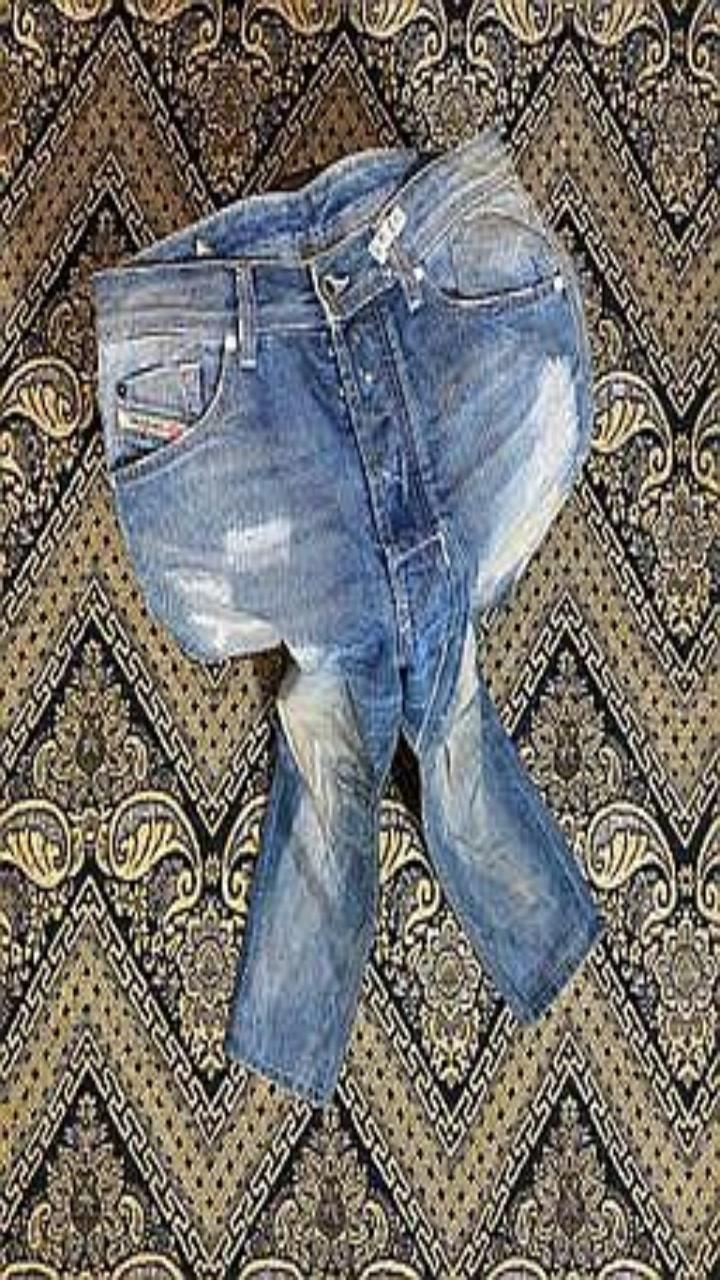Jeans: (92, 125, 602, 1104)
